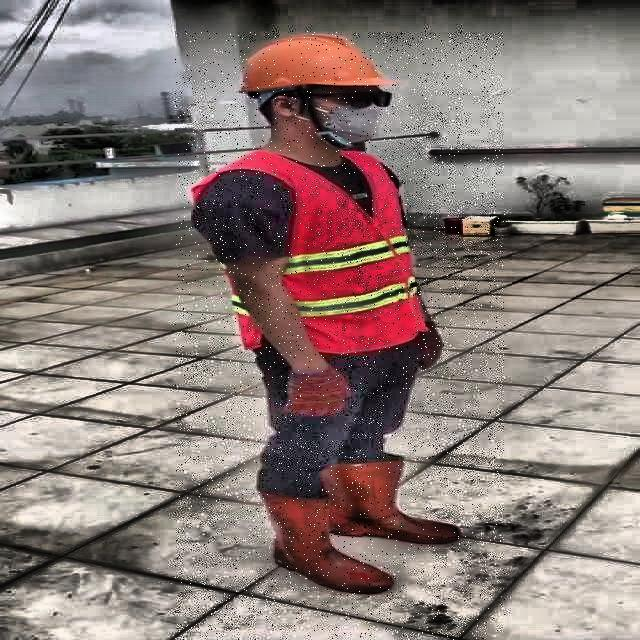safety_helmet: (232, 32, 396, 94)
safety_jacket: (194, 151, 426, 353)
